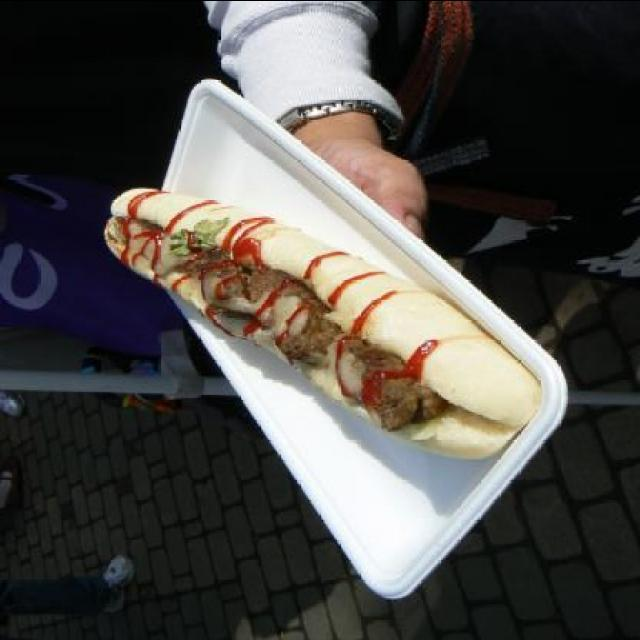Hot dog: (97, 170, 548, 452)
